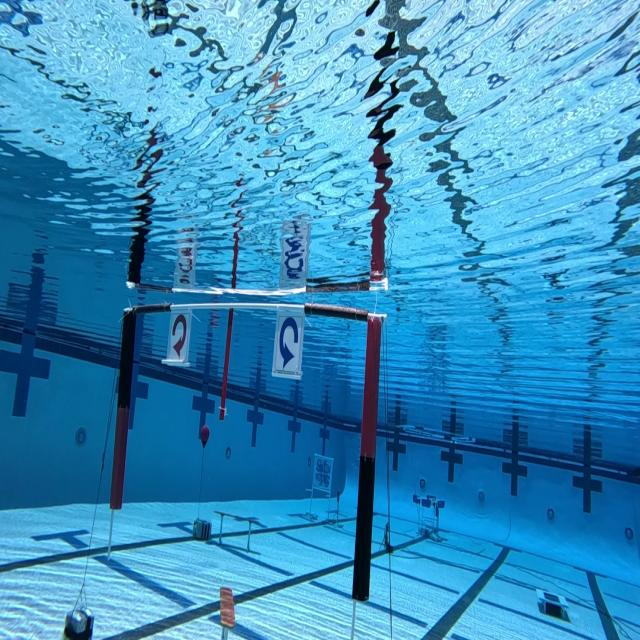blue_side: (272, 304, 304, 381)
red_side: (165, 301, 193, 363)
